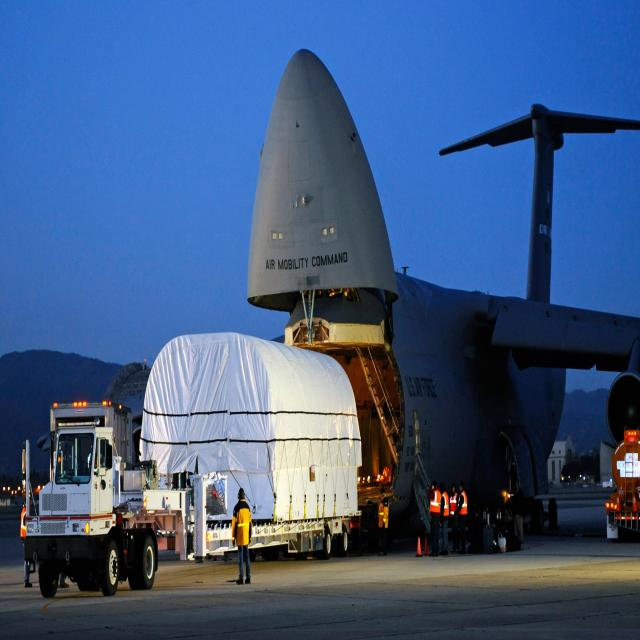C5: (225, 26, 640, 595)
